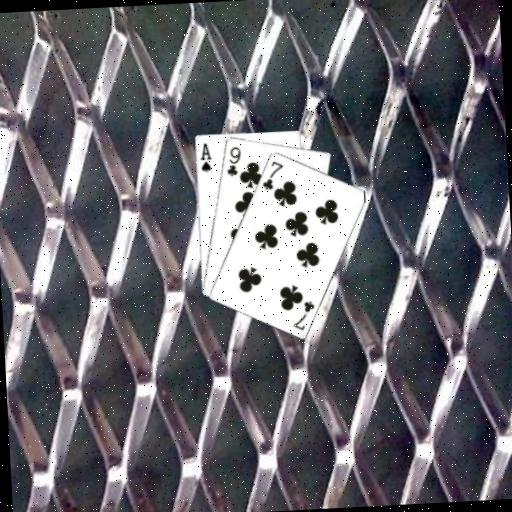7C: (259, 157, 287, 192), (289, 297, 317, 332)
9C: (223, 143, 244, 178)
AS: (196, 140, 213, 174)
